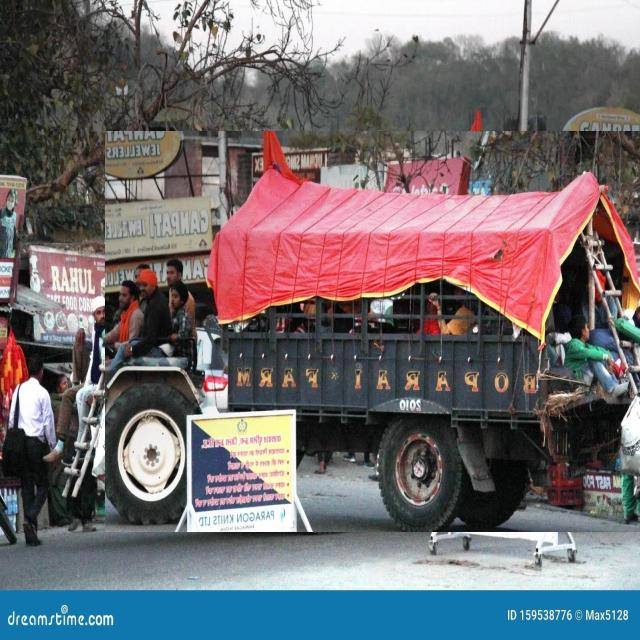truck: (105, 132, 640, 532)
